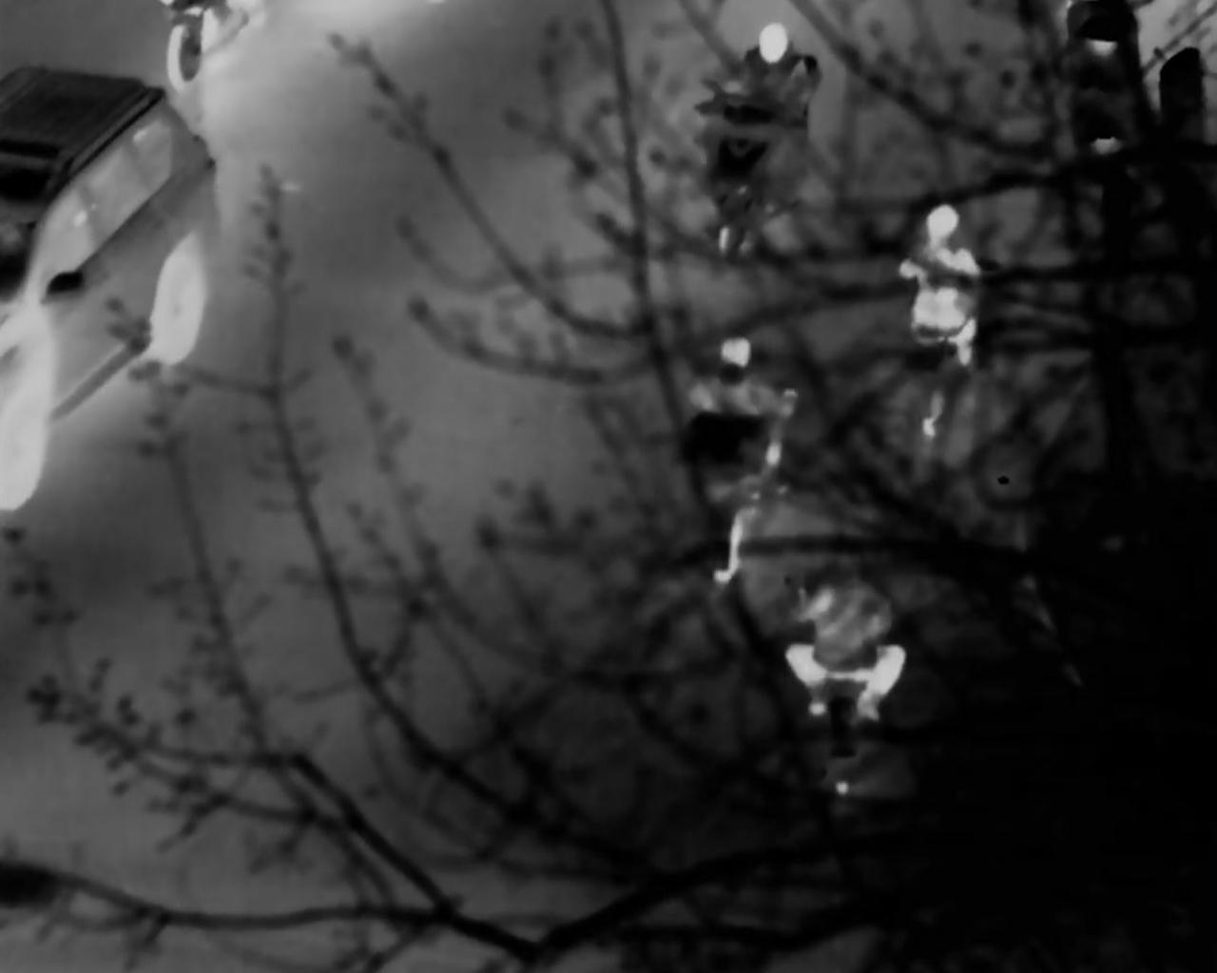person: (793, 550, 917, 731), (693, 322, 800, 526), (904, 186, 986, 402), (731, 13, 806, 212)
